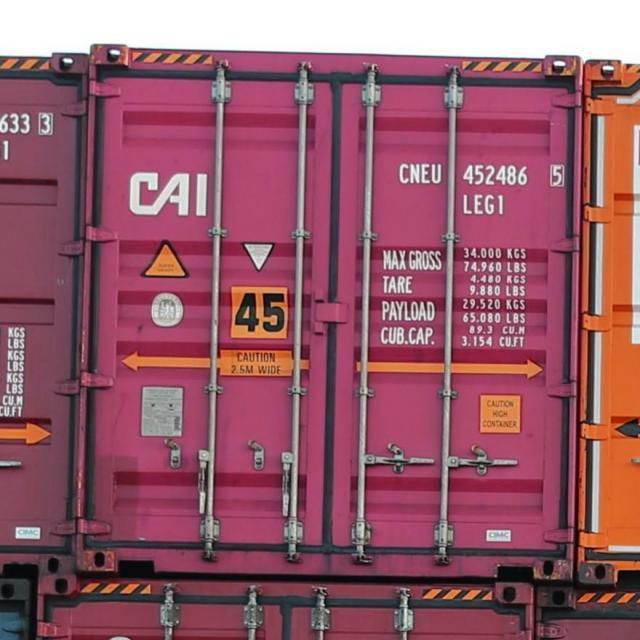ISO: (460, 194, 507, 216)
container_number: (402, 164, 568, 189)
